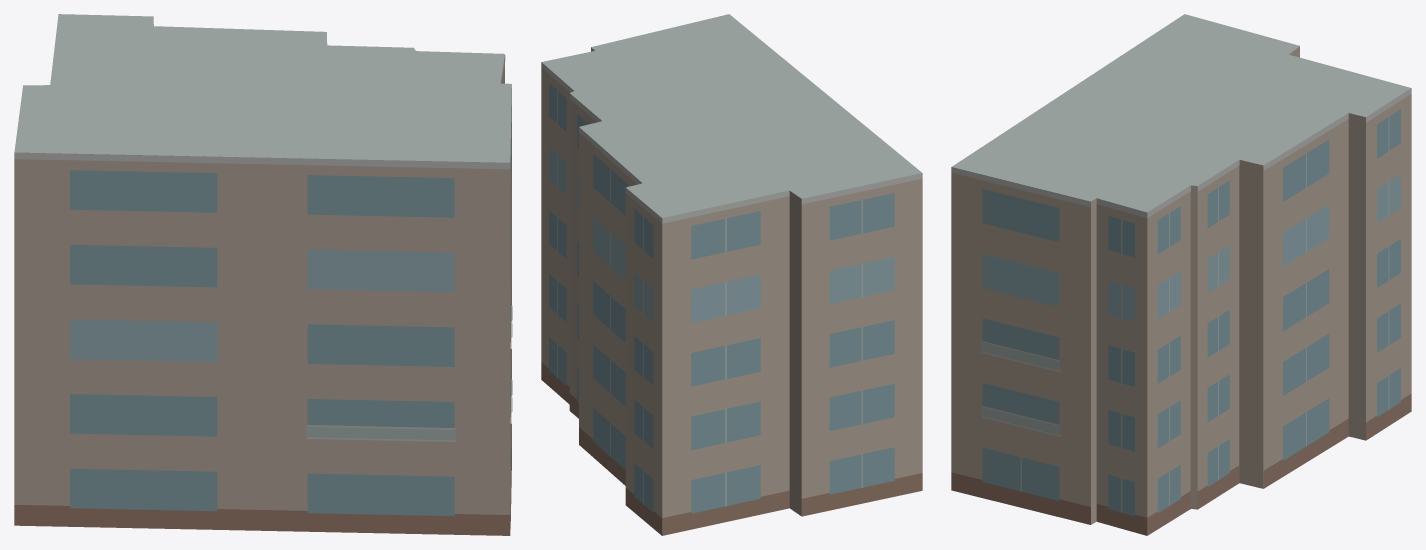
The model's file is survey-upis-32676314.glb.
3 views of the same model, side by side, from view 1: azimuth 30°, elevation 25°; view 2: azimuth 150°, elevation 25°; view 3: azimuth 270°, elevation 25° (orthographic). The views are drawn at different scales.
Visible parts, largest first — view 1: survey-upis-32676314.tmp; view 2: survey-upis-32676314.tmp; view 3: survey-upis-32676314.tmp.
Boxes of the visible parts, bbox=[...] form: survey-upis-32676314.tmp: bbox=[14, 14, 512, 535]; survey-upis-32676314.tmp: bbox=[541, 14, 922, 535]; survey-upis-32676314.tmp: bbox=[951, 14, 1411, 535].
Bounding box in the file's own units: 18.17 × 13.8 × 17.8.
